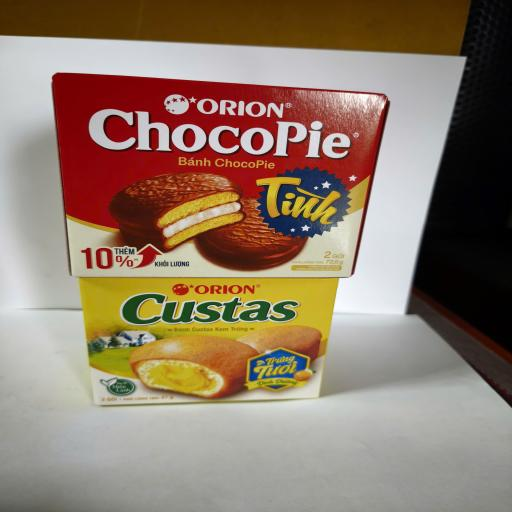chocopie: (52, 72, 389, 278)
custas: (78, 277, 339, 406)
